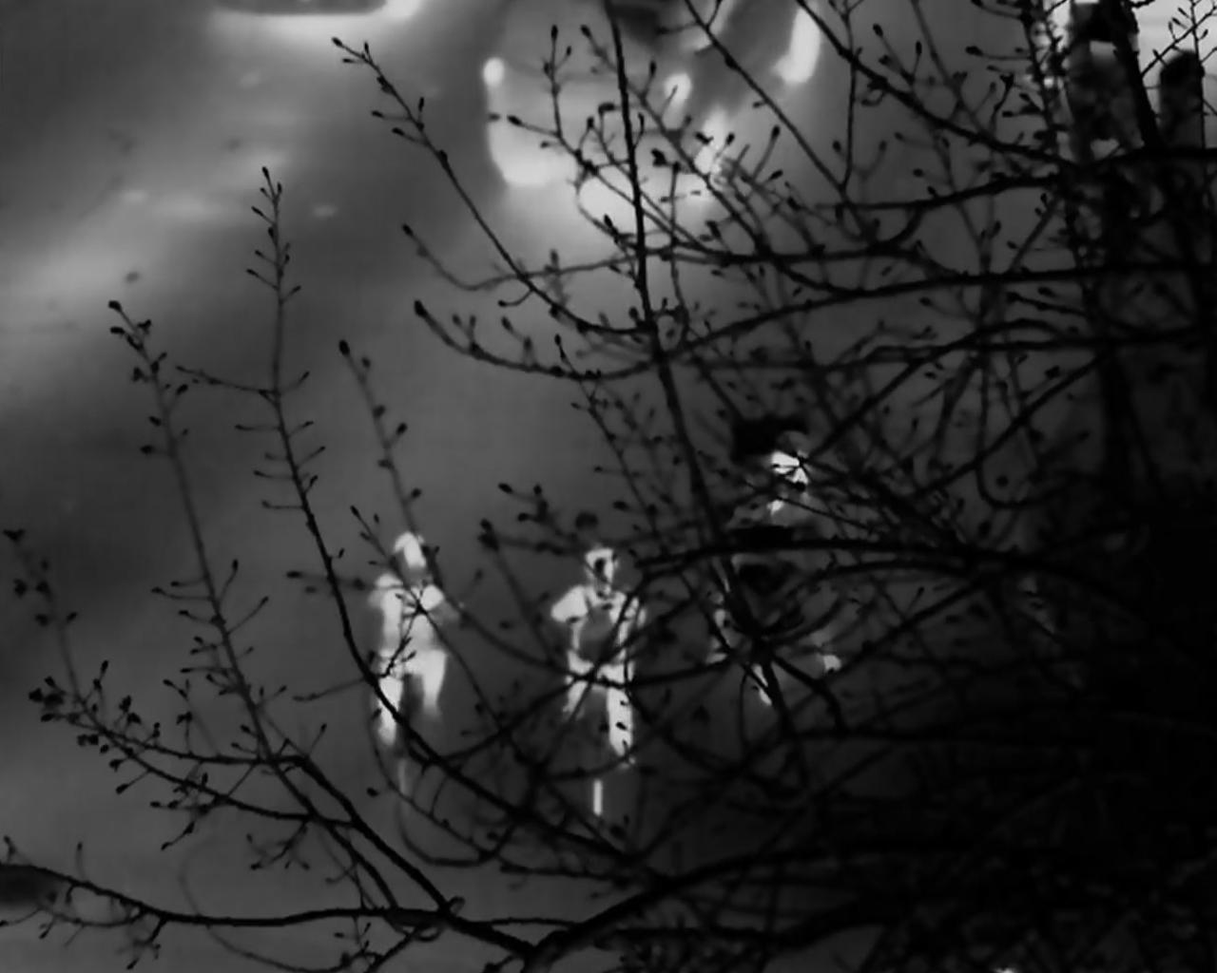person: (365, 532, 460, 741), (559, 546, 636, 792)
